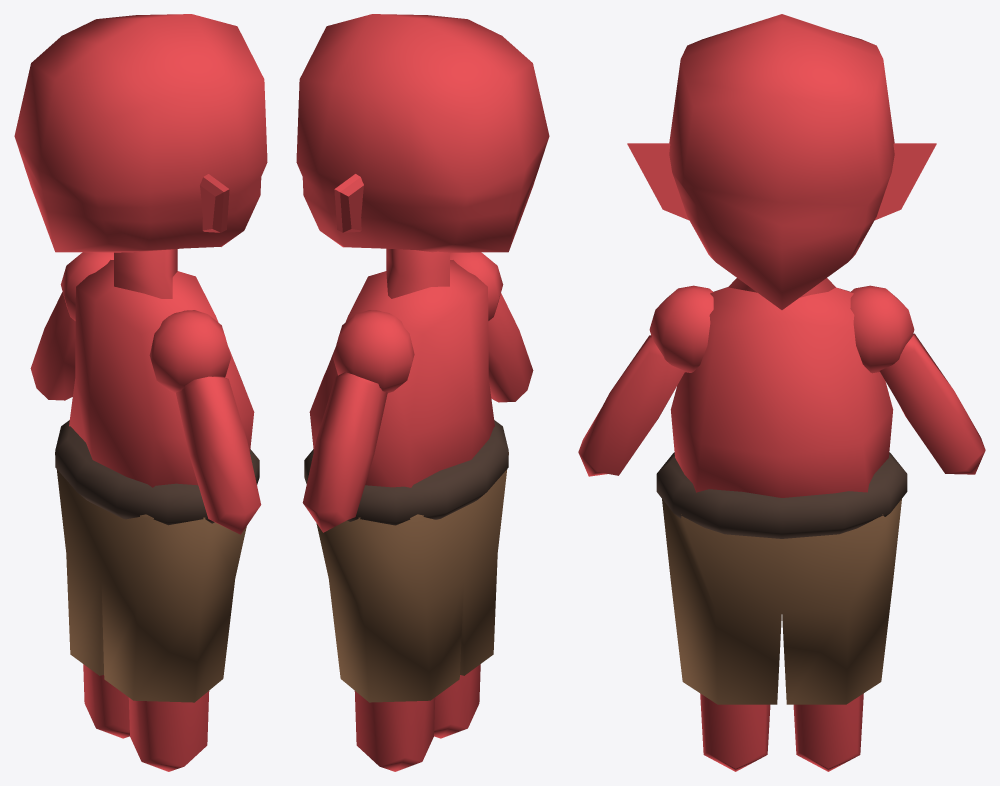
The model's file is hellwarden.gltf.
3 renders of one model, left to right at view 1: azimuth 30°, elevation 25°; view 2: azimuth 150°, elevation 25°; view 3: azimuth 270°, elevation 25°, orthographic.
Parts seen in each view (by area): view 1: HEADLOWPOLY.002, Cylinder, Cube.001, arm.004, Cylinder.001, Sphere.003, leg.006, arm.005, neck.001, leg.007, Sphere.004; view 2: HEADLOWPOLY.002, Cylinder, Cube.001, arm.005, Cylinder.001, Sphere.004, leg.007, arm.004, neck.001, leg.006, Sphere.003; view 3: HEADLOWPOLY.002, Cube.001, Cylinder, Cylinder.001, arm.004, arm.005, leg.006, leg.007, Sphere.003, Sphere.004.
Part boxes in pixels (box(x1,y1,x2,y2)): HEADLOWPOLY.002: box(14, 14, 267, 252); Cylinder: box(55, 452, 246, 702); Cube.001: box(69, 260, 254, 487); arm.004: box(176, 376, 261, 534); Cylinder.001: box(55, 420, 259, 525); Sphere.003: box(149, 310, 230, 392); leg.006: box(128, 691, 209, 771); arm.005: box(30, 292, 75, 400); neck.001: box(114, 249, 177, 298); leg.007: box(83, 664, 129, 738); Sphere.004: box(60, 252, 113, 320); HEADLOWPOLY.002: box(296, 14, 549, 252); Cylinder: box(316, 452, 508, 702); Cube.001: box(309, 260, 494, 487); arm.005: box(302, 372, 387, 532); Cylinder.001: box(304, 420, 508, 525); Sphere.004: box(333, 310, 414, 392); leg.007: box(354, 691, 435, 771); arm.004: box(488, 293, 533, 402); neck.001: box(386, 248, 449, 298); leg.006: box(434, 664, 480, 738); Sphere.003: box(450, 252, 503, 320); HEADLOWPOLY.002: box(627, 14, 936, 309); Cube.001: box(670, 287, 893, 497); Cylinder: box(662, 499, 901, 704); Cylinder.001: box(656, 452, 907, 538); arm.004: box(578, 335, 684, 476); arm.005: box(879, 333, 985, 474); leg.006: box(700, 693, 770, 771); leg.007: box(793, 693, 863, 771); Sphere.003: box(649, 285, 713, 372); Sphere.004: box(850, 285, 914, 373).
Size of the model in its own units: 1.18 by 3.75 by 1.85.
